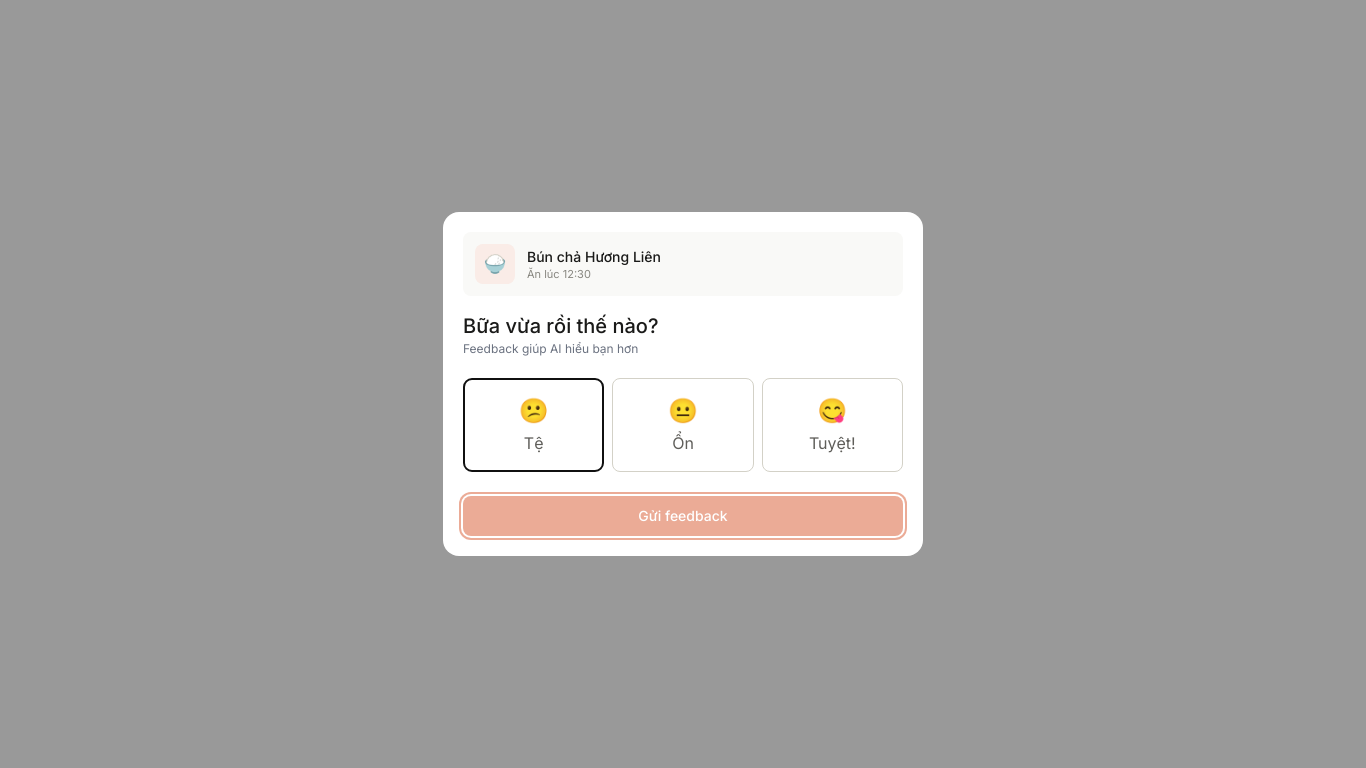
FeedbackModal › enables submit after emoji selection
Click the text "Ổn".
click(683, 443)  # box [672,431,694,455]
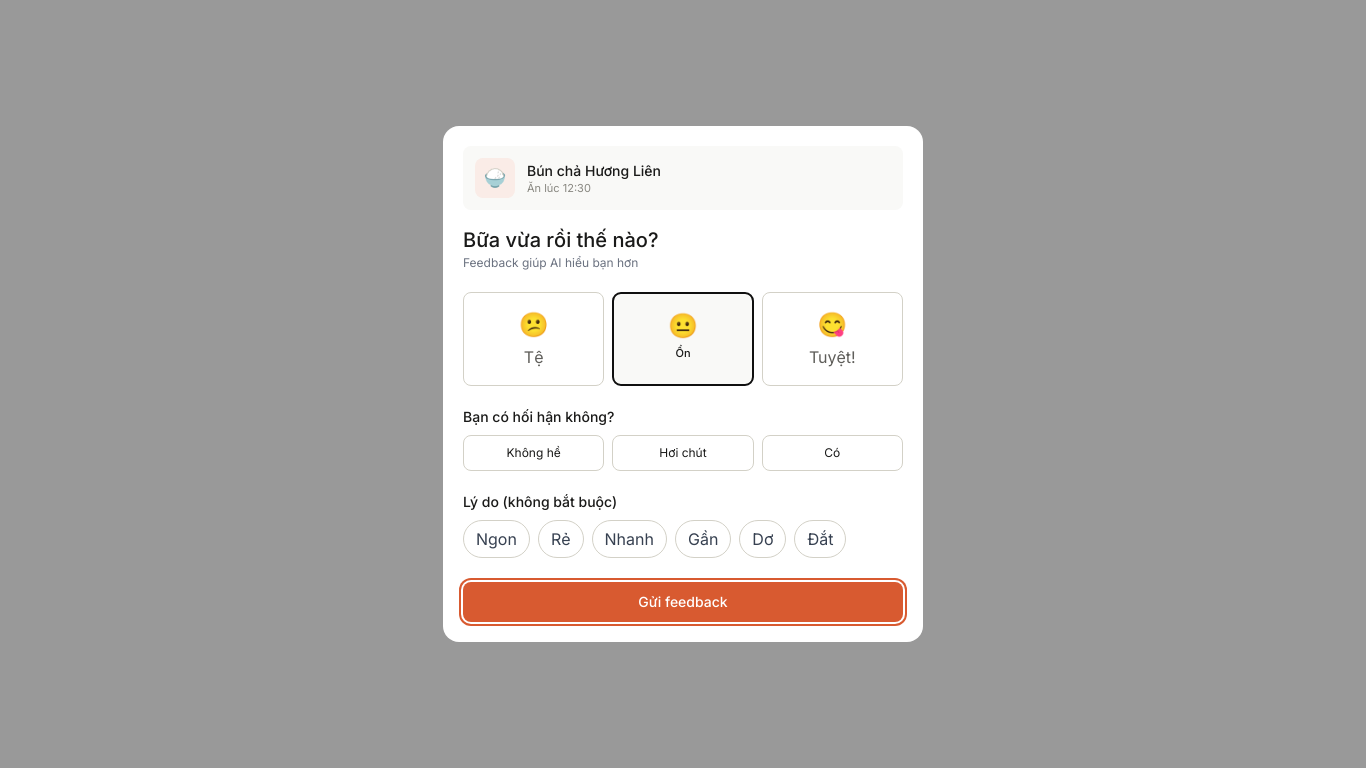
Now the button "Gửi feedback" is enabled, box [463,582,903,622]
